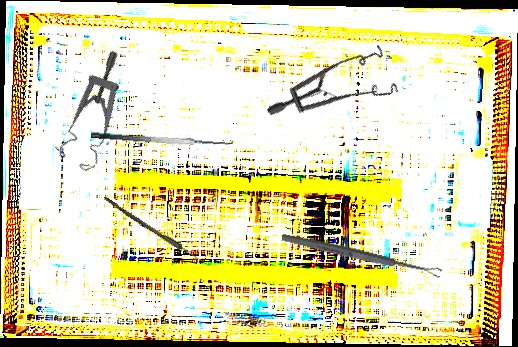Spatula Surgical: (90, 119, 234, 152)
Speculum: (265, 19, 413, 168), (35, 49, 162, 178)
Surgical Spoon: (101, 196, 212, 268), (280, 231, 443, 280)
